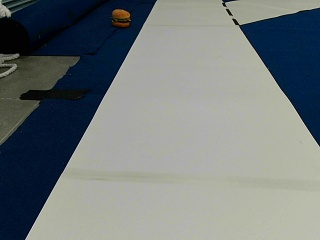burger: (111, 7, 131, 27)
